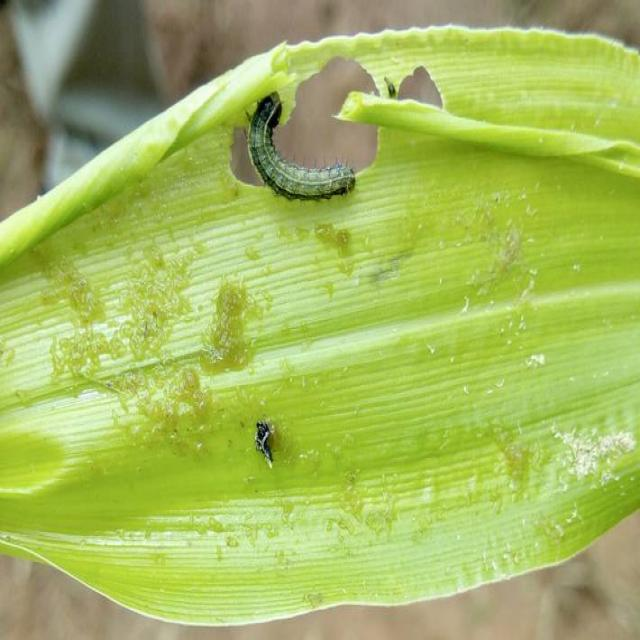worm: (245, 91, 356, 201)
